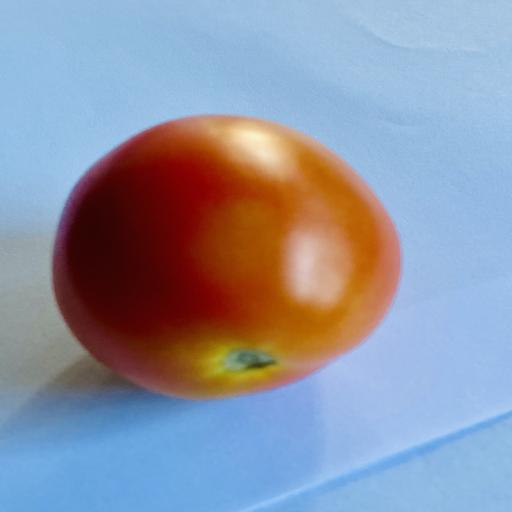ripe: (52, 115, 400, 399)
